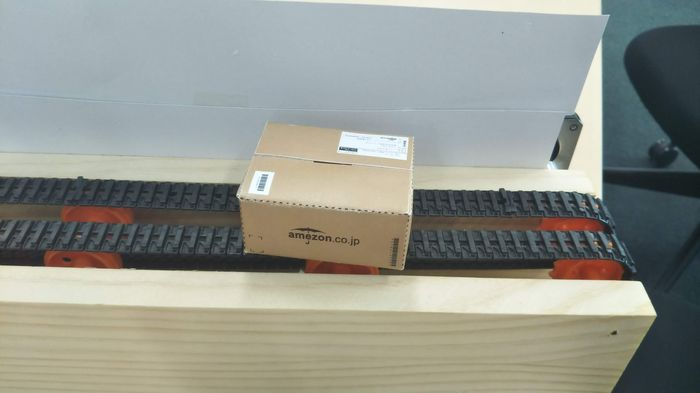box1: (230, 112, 418, 272)
